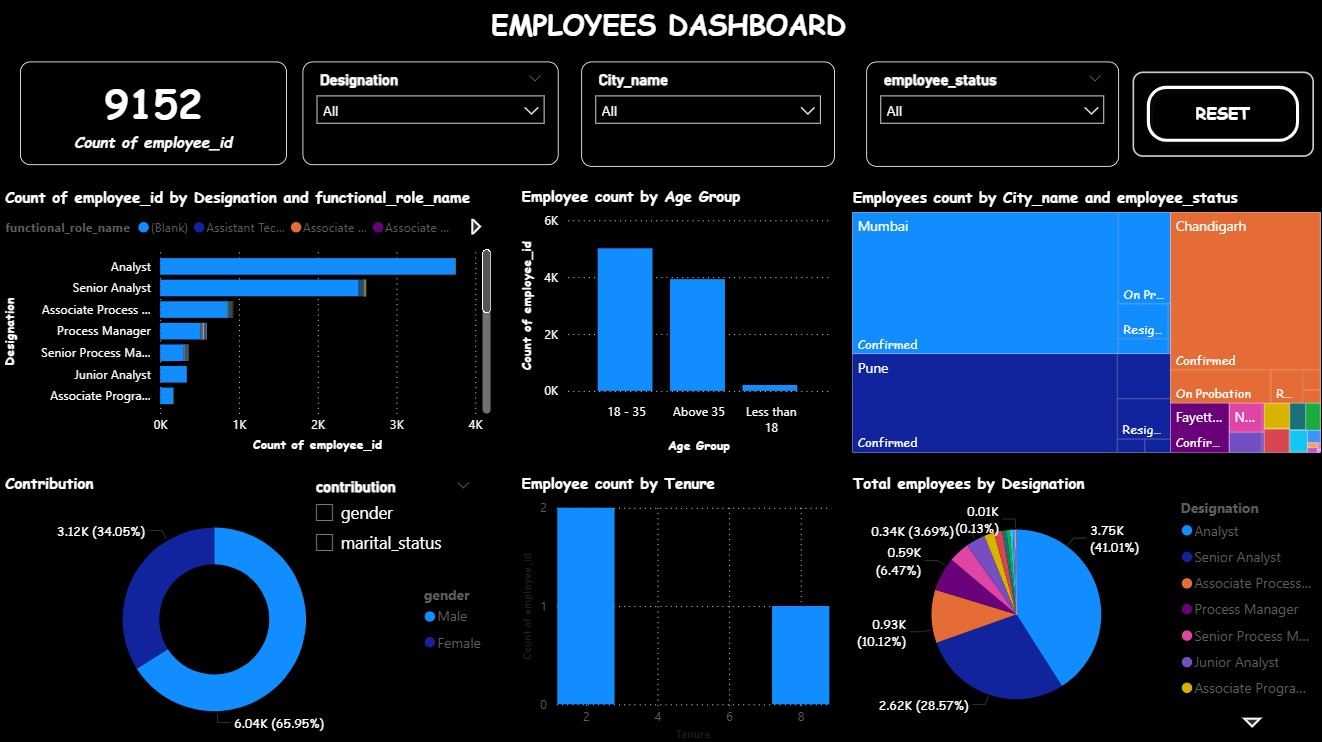

Layout of this report page (visuals, bound fields, positions):
{"tool":"tableau","page":{"name":"Dashboard 1","canvas":[1000,1000],"units":"permille","ordinal":0},"visuals":[{"type":"text","box":[7.8,10,827.5,68.6]},{"type":"filter","title":"Total Employees Designation wise","param":"[federated.1dr1wkv0x8e83q16ght8w1mxmb5f].[none:Designation:nk]","box":[835.3,10,156.9,112.2]},{"type":"worksheet","title":"Total Employees Designation wise","mark":"Automatic","rows":["Designation"],"cols":["employee_id"],"box":[7.8,78.6,479.4,254.4]},{"type":"worksheet","title":"Gender Contribution","mark":"Pie","box":[487.2,78.6,348.1,254.4]},{"type":"filter","title":"Employee count by City and status","param":"[federated.1dr1wkv0x8e83q16ght8w1mxmb5f].[none:City_name:nk]","box":[835.3,122.2,156.9,109.7]},{"type":"filter","title":"Employee count by City and status","param":"[federated.1dr1wkv0x8e83q16ght8w1mxmb5f].[none:employee_status:nk]","box":[835.3,231.9,156.9,101]},{"type":"worksheet","title":"Designation & Functional Role","mark":"Automatic","rows":["employee_id"],"cols":["Designation"],"box":[410.9,332.9,424.4,270.6]},{"type":"filter","title":"Marital Status Contribution","param":"[federated.1dr1wkv0x8e83q16ght8w1mxmb5f].[none:marital_status:nk]","box":[835.3,332.9,156.9,116]},{"type":"worksheet","title":"Employees count by Tenure","mark":"Automatic","rows":["employee_id"],"cols":["Calculation_1113515011868635136"],"box":[8.8,334.2,401.1,268.1]},{"type":"filter","title":"Gender Contribution","param":"[federated.1dr1wkv0x8e83q16ght8w1mxmb5f].[none:gender:nk]","box":[835.3,448.9,156.9,113.5]},{"type":"filter","title":"Designation & Functional Role","param":"[federated.1dr1wkv0x8e83q16ght8w1mxmb5f].[none:functional_role_name:nk]","box":[835.3,562.4,156.9,116]},{"type":"worksheet","title":"Employee Count by Age Groups","mark":"Automatic","rows":["employee_id"],"cols":["Calculation_1113515011920904194"],"box":[7.8,603.5,242.2,386.5]},{"type":"worksheet","title":"Employee count by City and status","mark":"Automatic","box":[250,603.5,262.7,386.5]},{"type":"worksheet","title":"Marital Status Contribution","mark":"Automatic","rows":["Calculation_1113515011921854467","Calculation_1113515011921854467"],"box":[512.7,603.5,322.6,386.5]}]}

Visuals, with their boxes on the dashboard's canvas, which has no fixed pixel size, in thousandths of its width and height (x1, y1, x2, y2). These are canvas units, not pixel positions in the 1322x742 screenshot, which may show the page scaled, cropped or inside an application window:
text: <region>8, 10, 835, 79</region>
"Total Employees Designation wise" filter: <region>835, 10, 992, 122</region>
"Total Employees Designation wise" worksheet: <region>8, 79, 487, 333</region>
"Gender Contribution" worksheet (Pie marks): <region>487, 79, 835, 333</region>
"Employee count by City and status" filter: <region>835, 122, 992, 232</region>
"Employee count by City and status" filter: <region>835, 232, 992, 333</region>
"Designation & Functional Role" worksheet: <region>411, 333, 835, 604</region>
"Marital Status Contribution" filter: <region>835, 333, 992, 449</region>
"Employees count by Tenure" worksheet: <region>9, 334, 410, 602</region>
"Gender Contribution" filter: <region>835, 449, 992, 562</region>
"Designation & Functional Role" filter: <region>835, 562, 992, 678</region>
"Employee Count by Age Groups" worksheet: <region>8, 604, 250, 990</region>
"Employee count by City and status" worksheet: <region>250, 604, 513, 990</region>
"Marital Status Contribution" worksheet: <region>513, 604, 835, 990</region>
